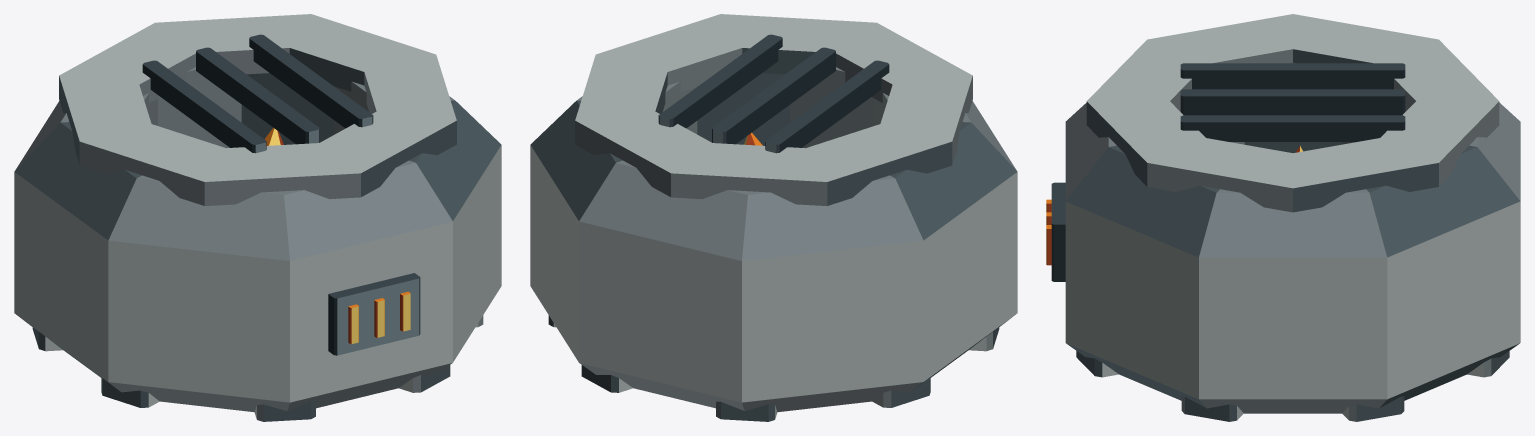
Rendered from furnace.fbx.
The picture shows the model from 3 angles, left to right: view 1: azimuth 30°, elevation 25°; view 2: azimuth 150°, elevation 25°; view 3: azimuth 270°, elevation 25°; orthographic projection.
Parts seen in each view (by area): view 1: furnace_body; view 2: furnace_body; view 3: furnace_body.
Part boxes in pixels (box(x1,y1,x2,y2)): furnace_body: box(14, 14, 501, 421); furnace_body: box(530, 14, 1017, 421); furnace_body: box(1046, 14, 1520, 421).
Bounding box in the file's own units: 2.73 × 1.58 × 2.85.
Materials: 1 (1 with a texture image).
